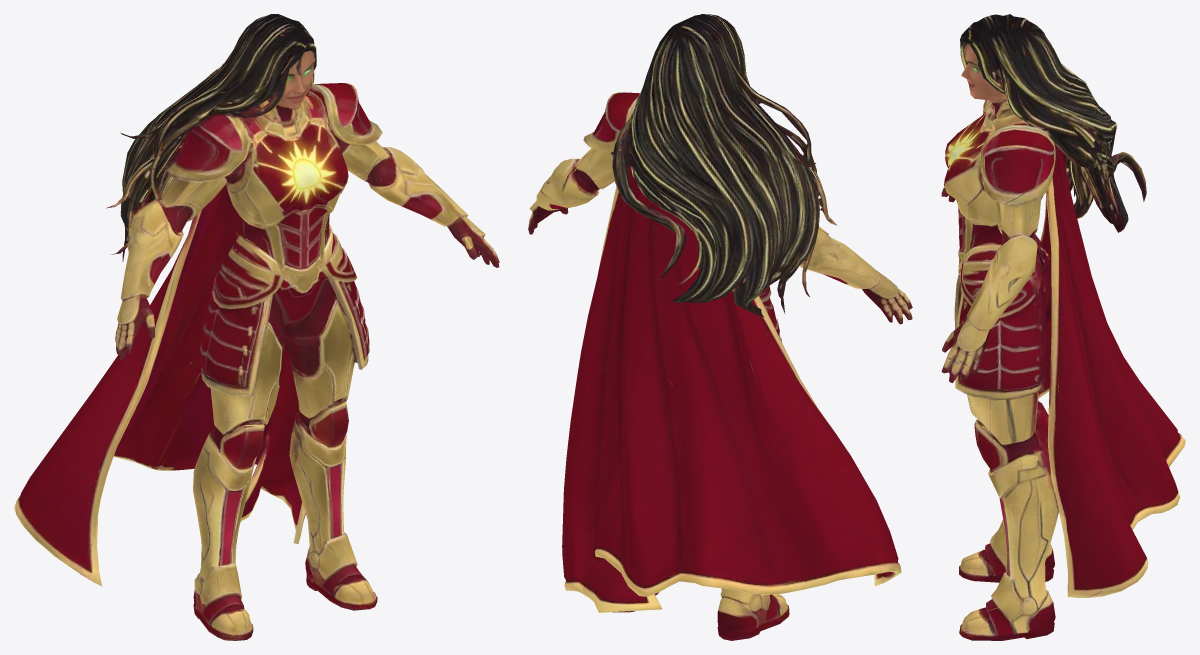
The model's file is solaria.glb.
3 renders of one model, left to right at view 1: azimuth 30°, elevation 25°; view 2: azimuth 150°, elevation 25°; view 3: azimuth 270°, elevation 25°, orthographic.
Parts seen in each view (by area): view 1: Mesh1.0; view 2: Mesh1.0; view 3: Mesh1.0.
Boxes of the visible parts, <box> form: Mesh1.0: <box>14,14,499,640</box>; Mesh1.0: <box>528,14,912,640</box>; Mesh1.0: <box>941,14,1185,640</box>.
Bounding box in the file's own units: 1.4 × 1.9 × 0.7188.
1 material, 1 textured.
